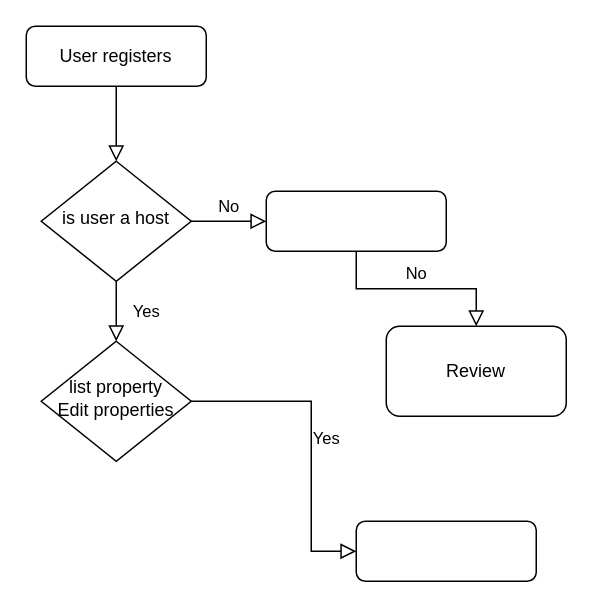
This 593x608 diagram has some shape labels left out. Here are the shapes that lost their labels. From the top down, the box of each, then its label:
(265, 190, 446, 251): view properties make bookings make payments
(355, 520, 536, 581): Accept Payments
